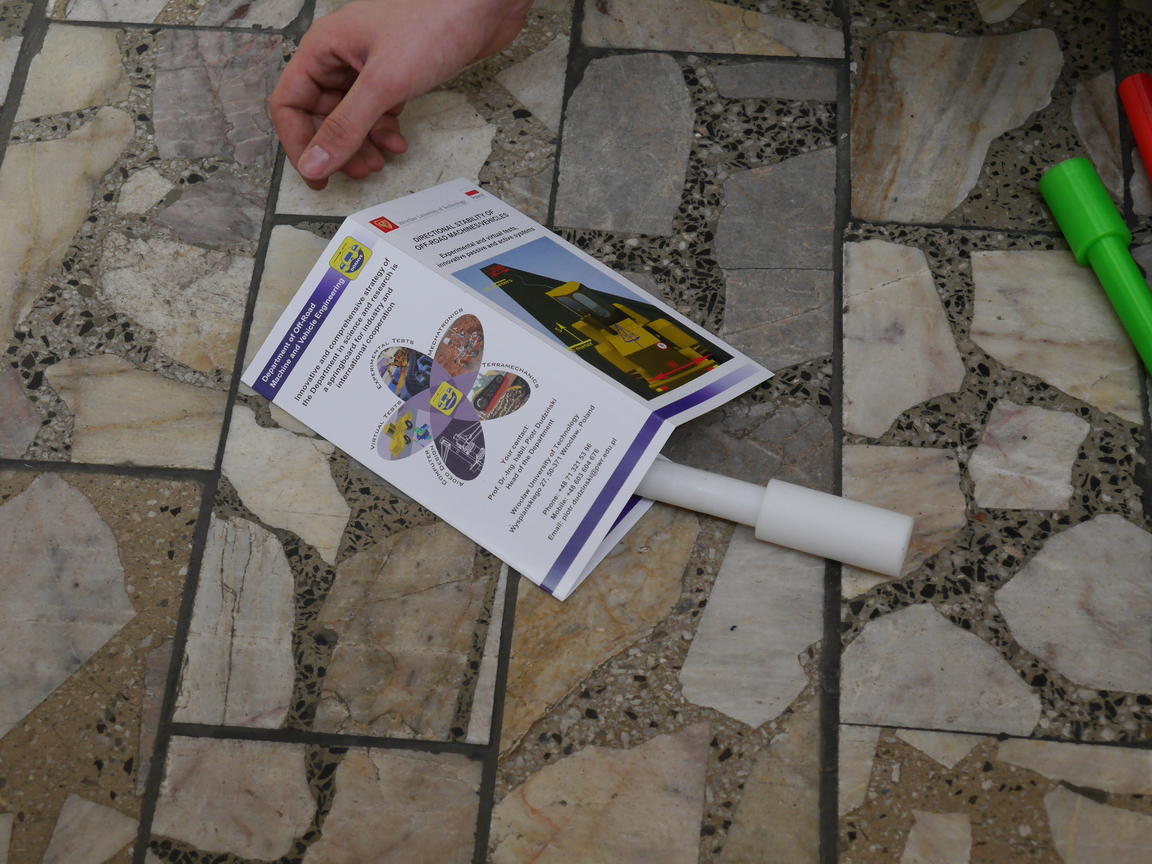cargo_g: (622, 450, 914, 579), (1043, 157, 1150, 381)
